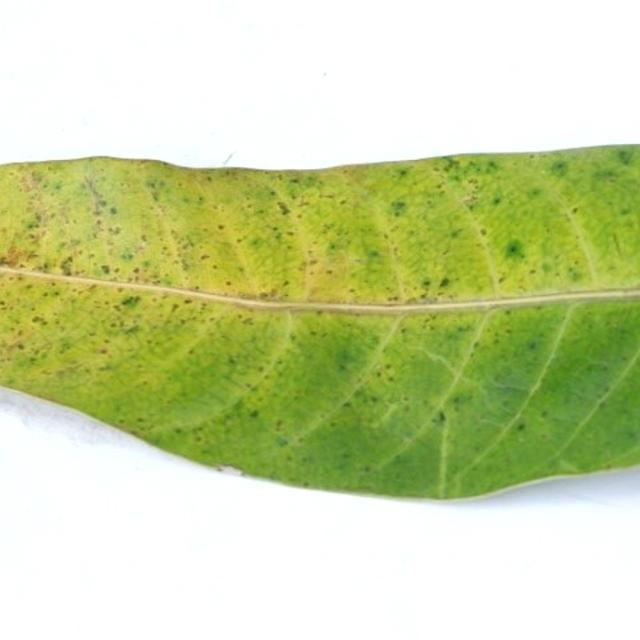Mango: (0, 146, 639, 497)
Powdery_Mildew: (496, 246, 531, 263), (593, 167, 622, 183), (119, 294, 140, 308), (390, 200, 408, 216), (617, 148, 635, 164), (550, 160, 569, 175), (276, 200, 292, 215), (119, 248, 135, 261), (61, 262, 73, 276), (437, 276, 450, 288), (434, 411, 446, 424), (367, 249, 381, 260), (449, 228, 463, 239), (277, 435, 289, 446), (421, 277, 432, 287), (100, 264, 111, 274), (491, 196, 502, 206), (327, 242, 337, 252), (249, 409, 259, 419), (517, 422, 526, 431)
